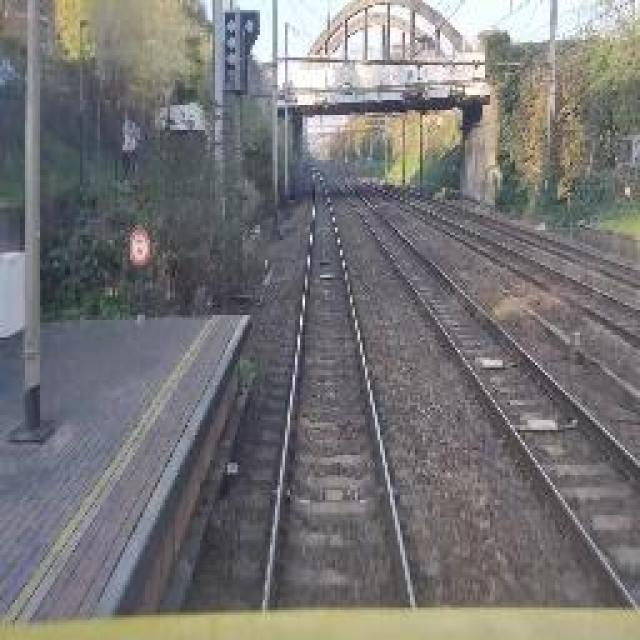rail: (322, 171, 640, 602), (238, 162, 438, 606)
